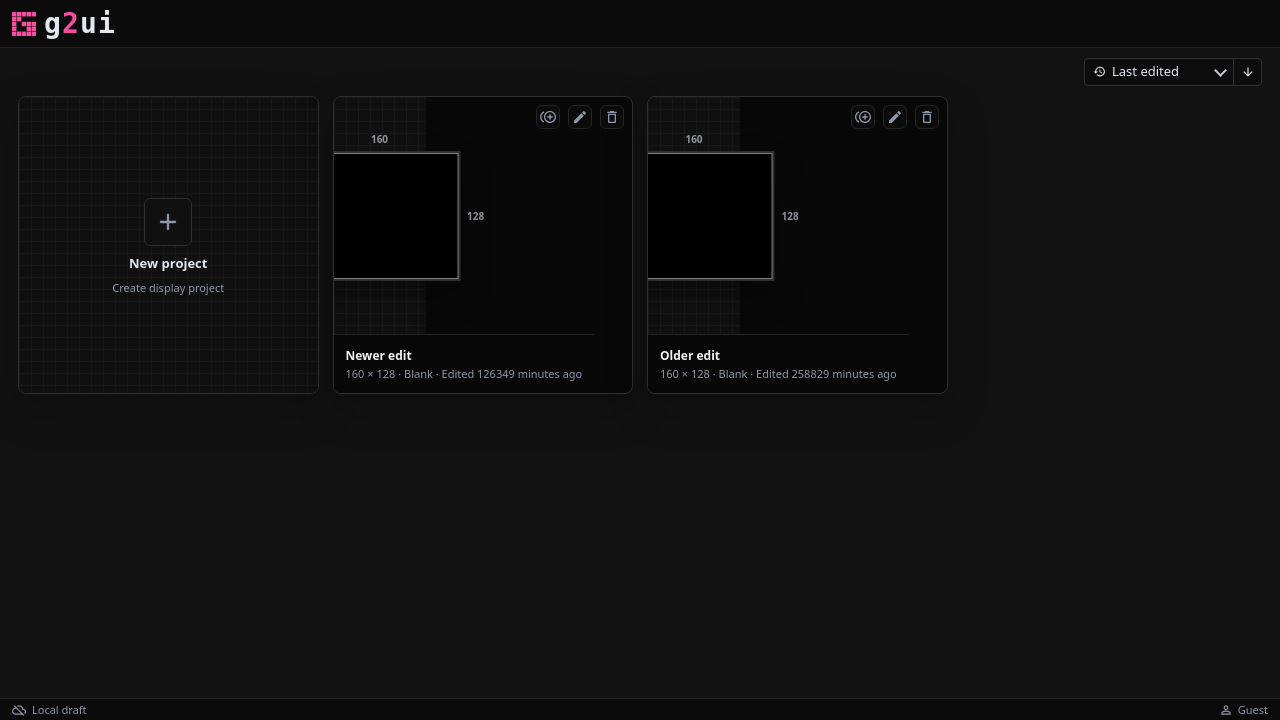
Test case: LibraryPage: sorting › toggles newest-first and oldest-first order
Click the button named "Sort newest first" at coordinates (1247, 72), box [1233,59,1261,85]
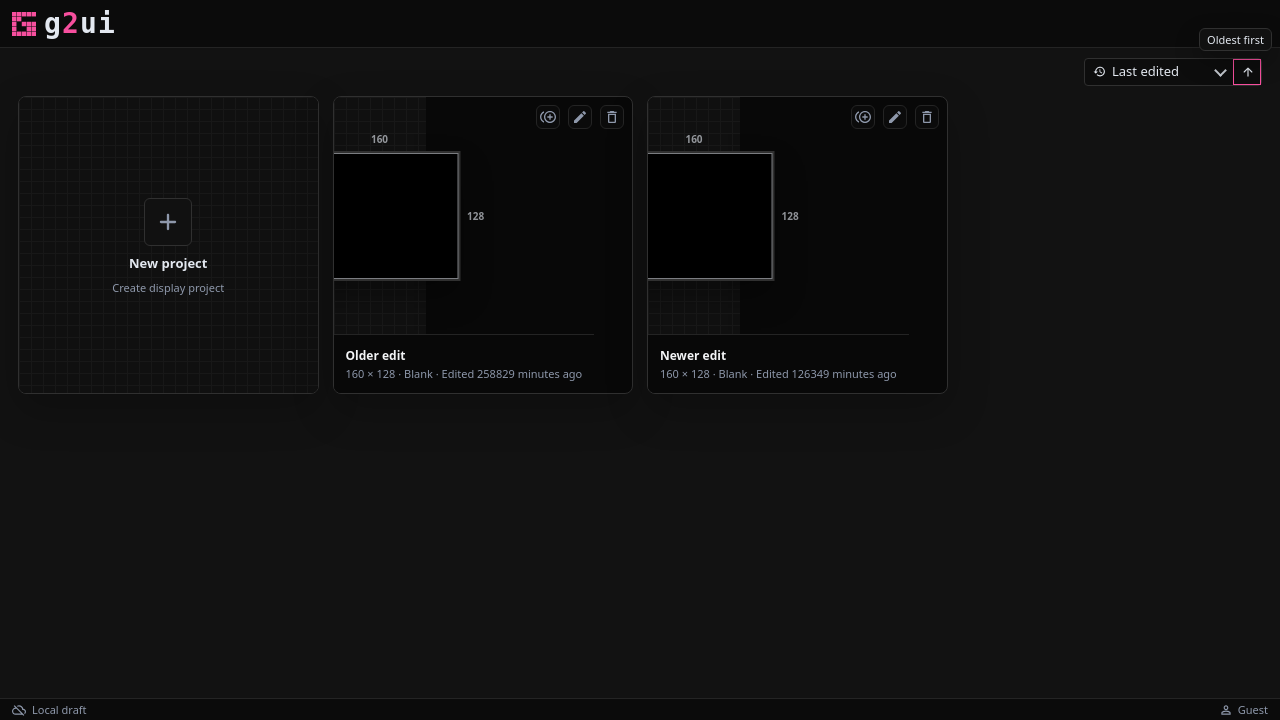
Result: the button named "Sort oldest first" is shown at [1233,59,1261,85]
